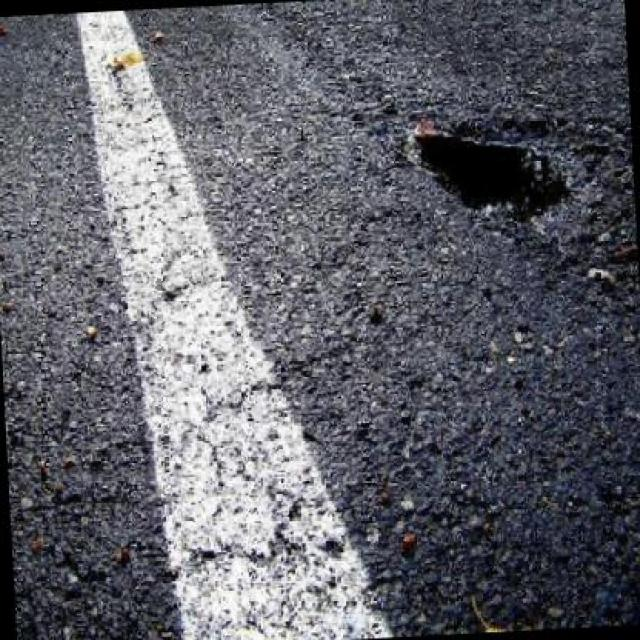pothole1: (398, 100, 600, 262)
